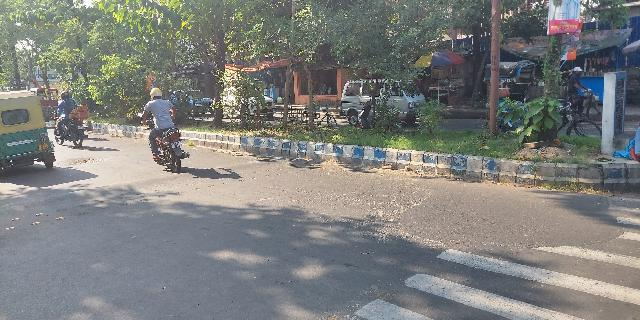Autorickshaw: (1, 91, 55, 172)
Motorbike: (138, 83, 194, 173), (49, 90, 91, 150)
